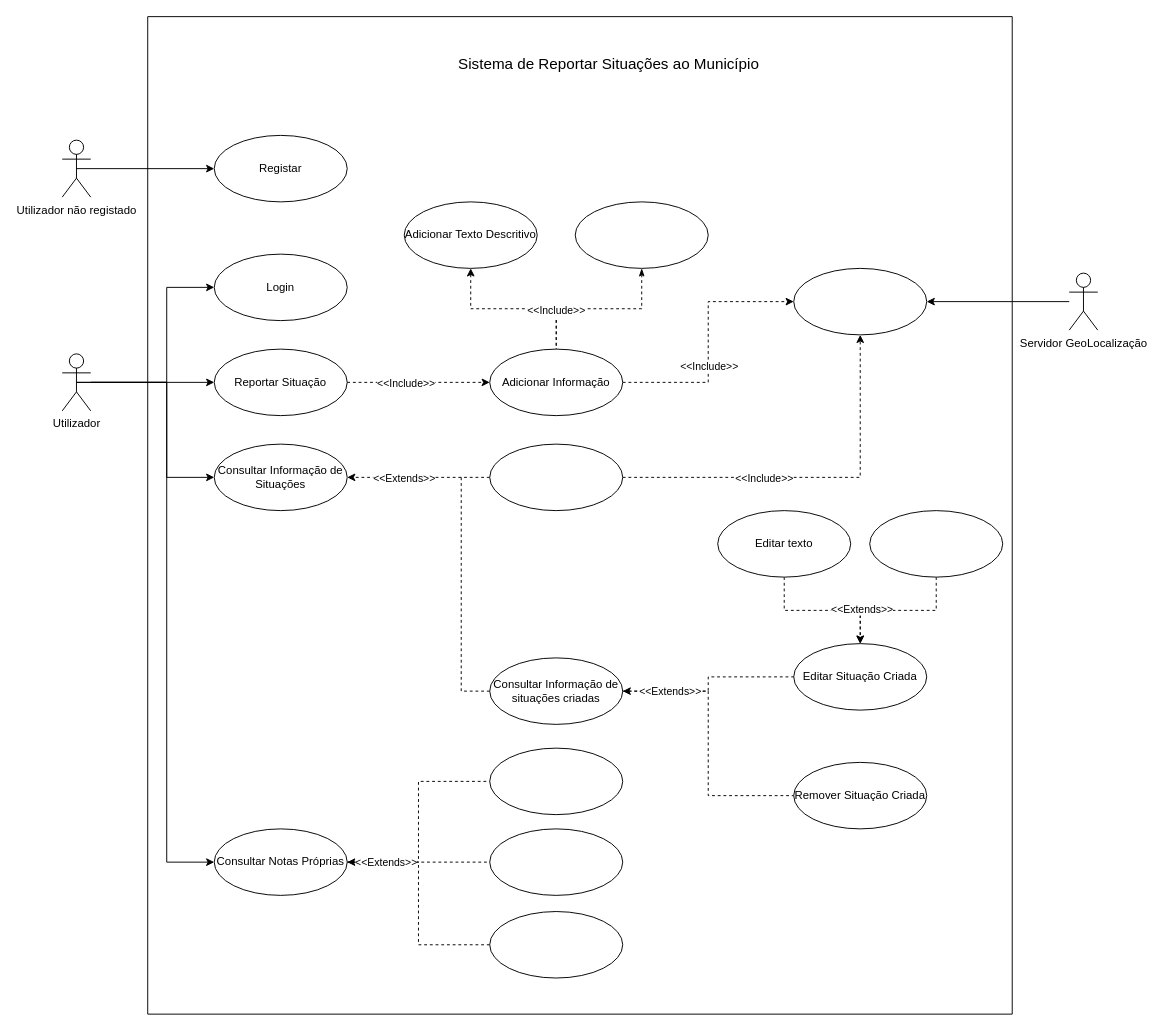
Some shapes in this 1163 by 1031 pixel diagram are drawn without their labels. Each missing label, with the box of its shape:
Adicionar Foto: (574, 201, 708, 268)
Adicionar Nota Própria: (489, 747, 623, 815)
Alterar Foto: (869, 510, 1003, 577)
Consultar Informação de outras situações: (489, 443, 623, 511)
Editar Nota Própria: (489, 828, 623, 895)
Obter Localização: (793, 267, 927, 335)
Remover Nota Própria: (489, 911, 623, 978)
